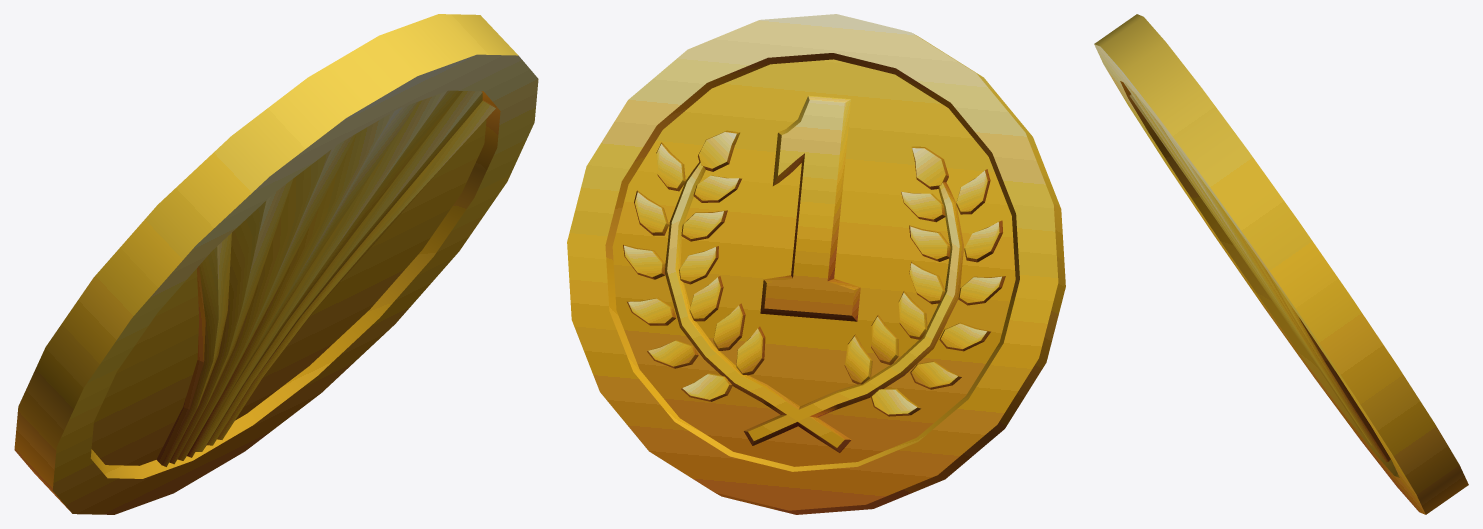
Rendered from RioBoardPrize.glb.
The picture shows the model from 3 angles, left to right: view 1: azimuth 30°, elevation 25°; view 2: azimuth 150°, elevation 25°; view 3: azimuth 270°, elevation 25°; orthographic projection. The views are drawn at different scales.
Parts seen in each view (by area): view 1: rioBoardHD; view 2: rioBoardHD; view 3: rioBoardHD.
Part boxes in pixels (x1=…): rioBoardHD: x1=14, y1=14, x2=538, y2=514; rioBoardHD: x1=567, y1=14, x2=1065, y2=514; rioBoardHD: x1=1094, y1=14, x2=1468, y2=514.
Size of the model in its own units: 7.27 by 6.8 by 4.83.
Materials: 1 (1 with a texture image).
